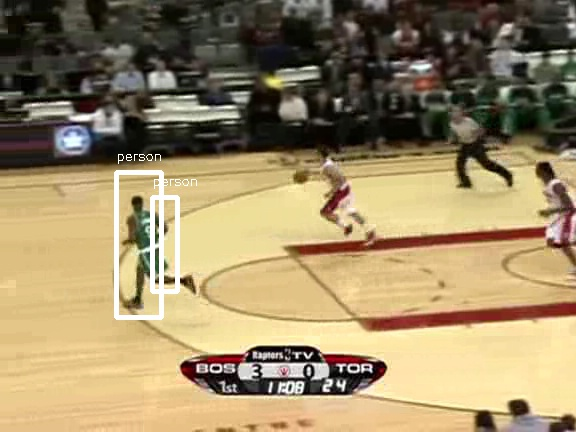person: (132, 204, 166, 285), (131, 204, 165, 285), (133, 204, 167, 285), (132, 203, 166, 284), (132, 205, 166, 286)
target_negative: (39, 49, 194, 402), (281, 188, 478, 399), (159, 166, 424, 286), (234, 303, 345, 415), (496, 294, 528, 343), (515, 299, 544, 305)
